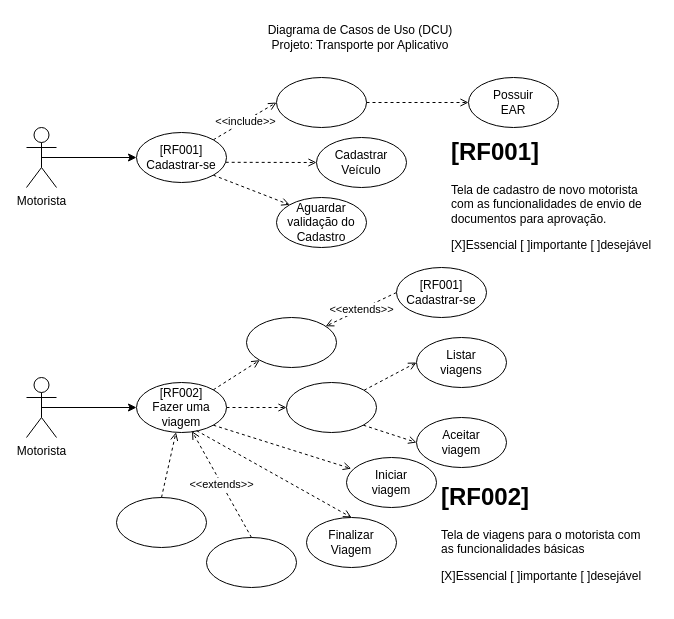
This 674x619 diagram has some shape labels left out. Each missing label, with the centre of its shape:
"Aguardar passageiro" belongs at (x=331, y=407).
"Avaliar Viagem" belongs at (x=251, y=562).
"Cadastrar documento" belongs at (x=321, y=102).
"Cancelar Viagem" belongs at (x=161, y=522).
"Fazer Login" belongs at (x=291, y=342).
